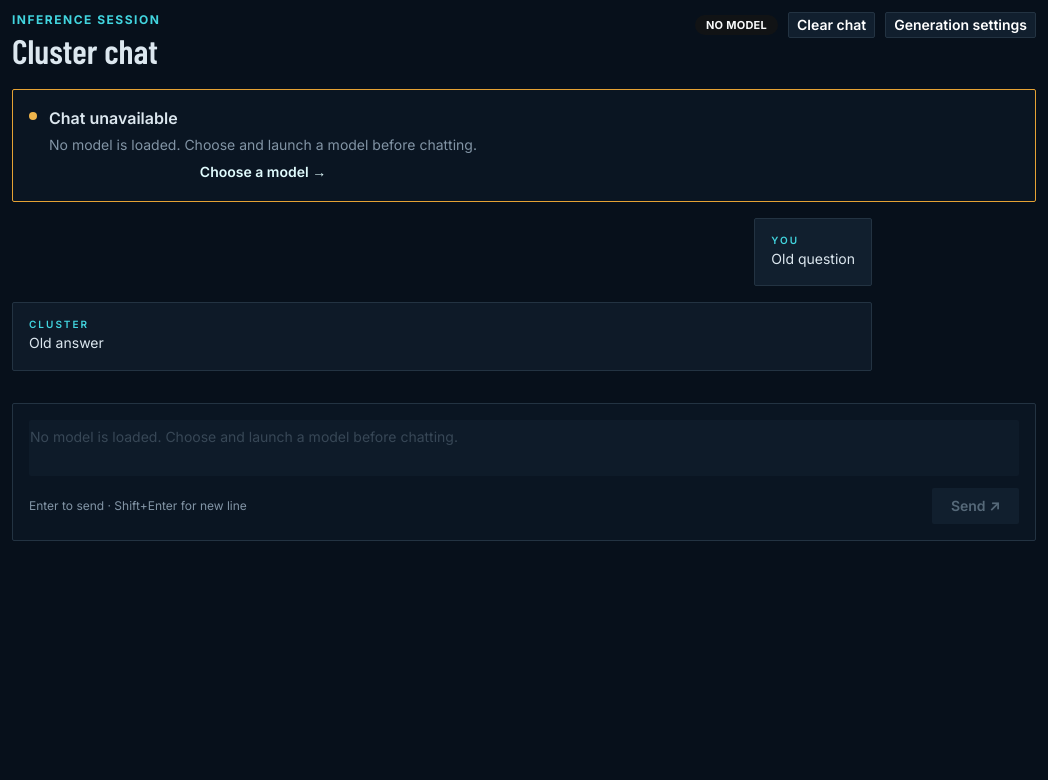
Test: interactive pages › clears a saved conversation on request
Expected: the text "Old question" is shown, [771,249,855,269]
Click the button "Clear chat".
click(832, 25)  # box [788,12,875,38]
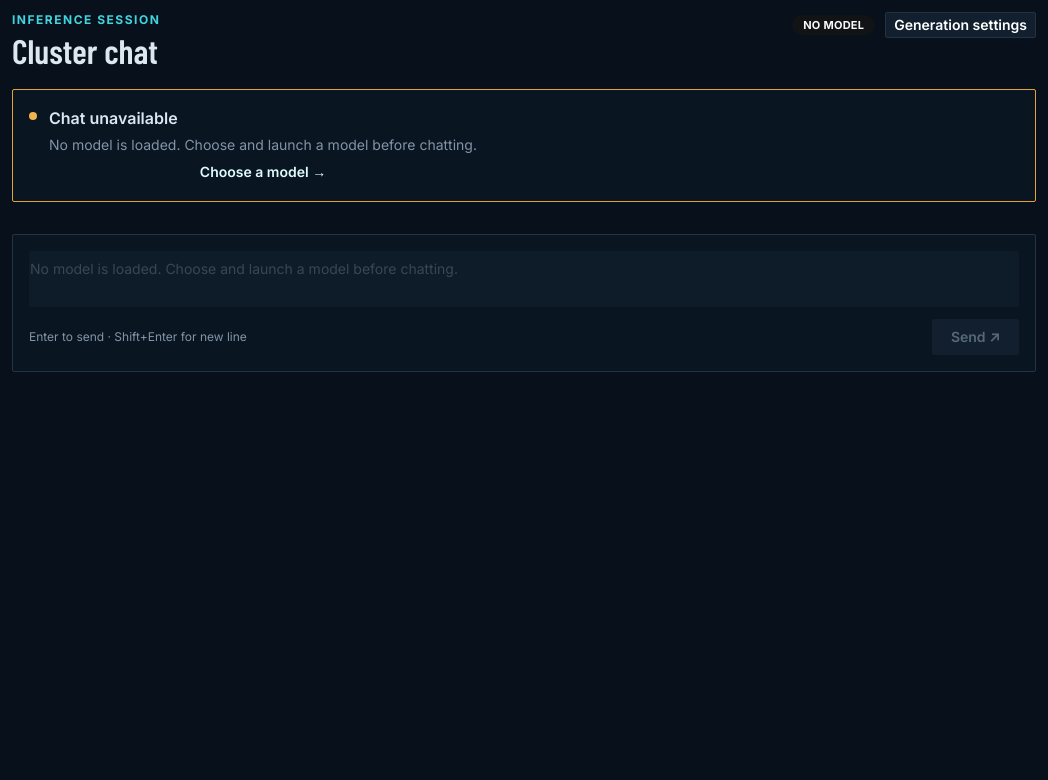
Now the text "Old question" is gone
